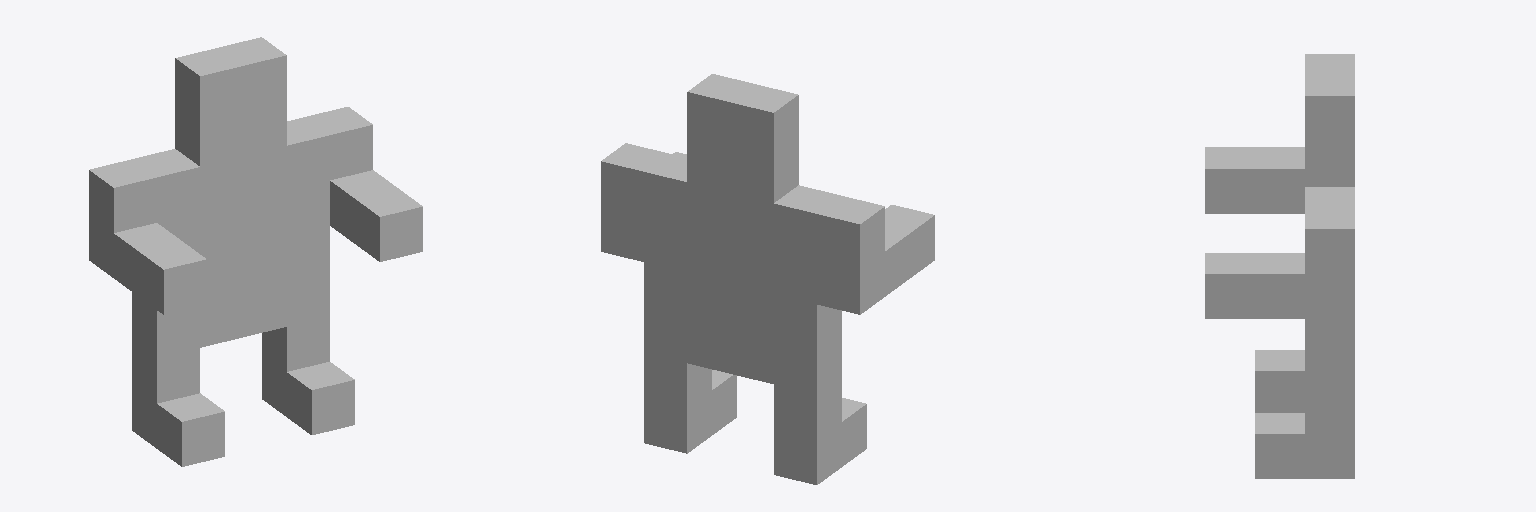
Rendered from player.obj.
3 renders of one model, left to right at view 1: azimuth 30°, elevation 25°; view 2: azimuth 150°, elevation 25°; view 3: azimuth 270°, elevation 25°, orthographic.
Bounding box in the file's own units: 6 × 8 × 3.